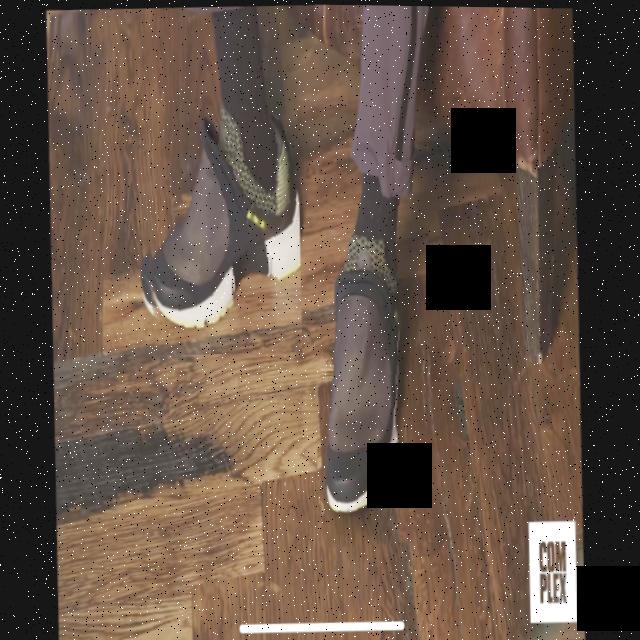shoe: (308, 189, 441, 549), (134, 82, 307, 357)
